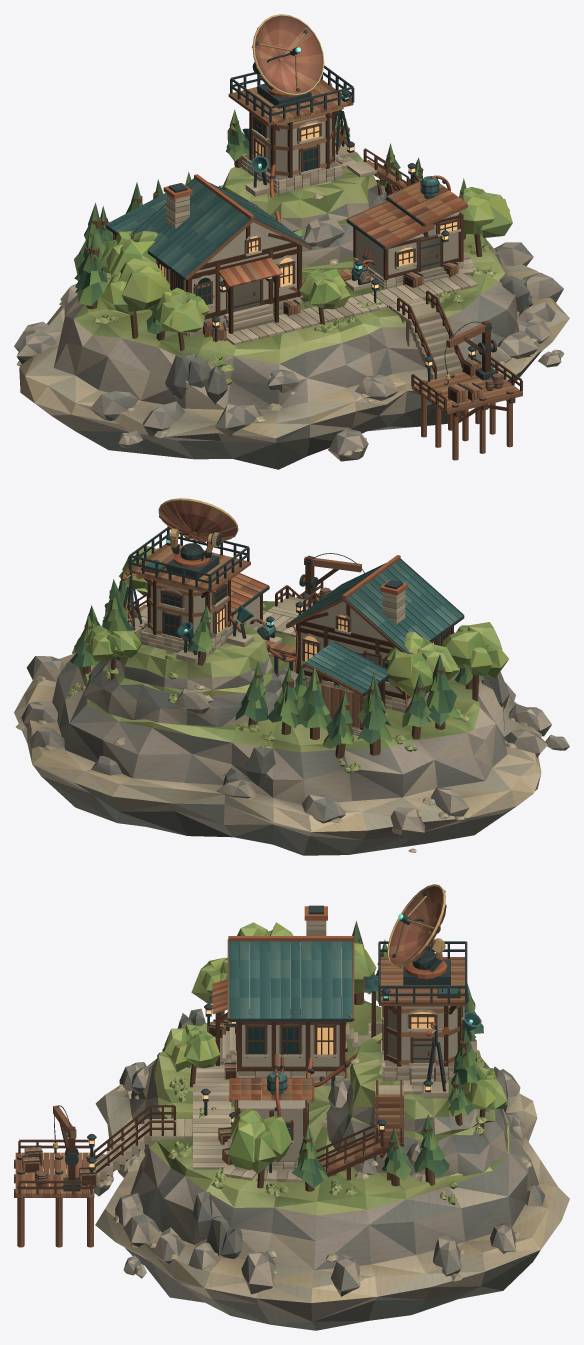
Rendered from harvest.glb.
3 renders of one model, top to bottom at view 1: azimuth 30°, elevation 25°; view 2: azimuth 150°, elevation 25°; view 3: azimuth 270°, elevation 25°, orthographic. The views are drawn at different scales.
Visible parts, largest first — view 1: Harvest — The Collector’s Workshop; view 2: Harvest — The Collector’s Workshop; view 3: Harvest — The Collector’s Workshop.
Boxes of the visible parts, left/top/right/bottom form: Harvest — The Collector’s Workshop: left=14, top=14, right=569, bottom=469; Harvest — The Collector’s Workshop: left=14, top=498, right=569, bottom=855; Harvest — The Collector’s Workshop: left=14, top=884, right=569, bottom=1330.
Size of the model in its own units: 24.06 by 14.5 by 20.58.
3 materials, 1 textured.
